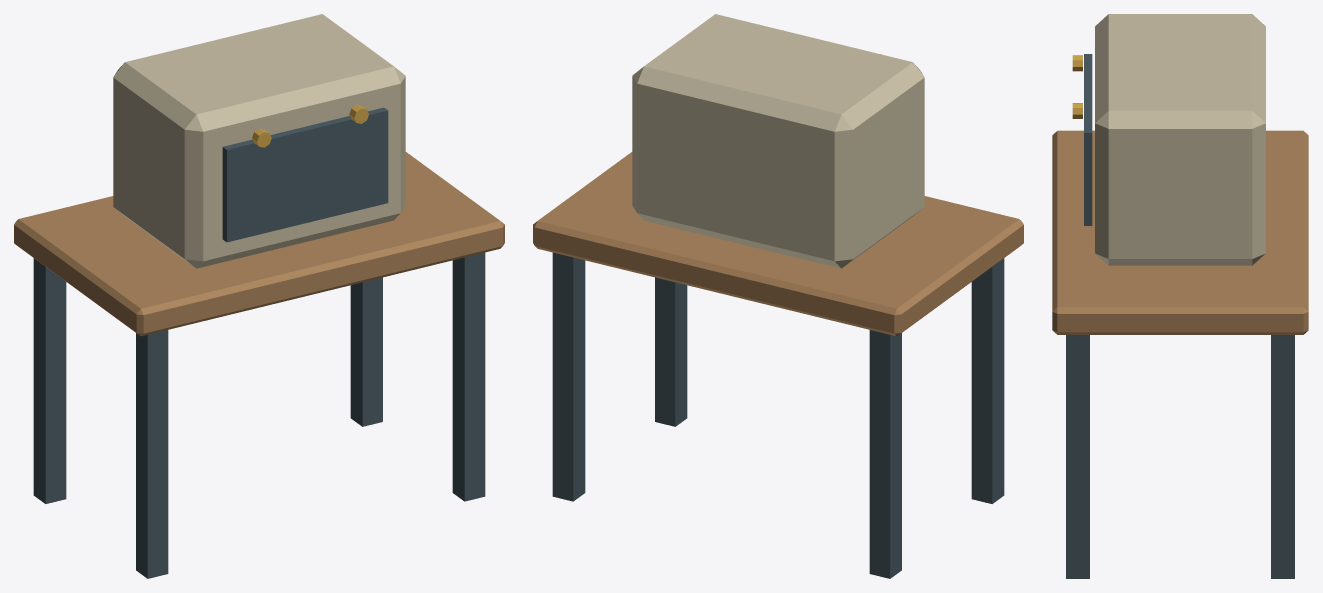
File: microwave_counter.glb
3 renders of one model, left to right at view 1: azimuth 30°, elevation 25°; view 2: azimuth 150°, elevation 25°; view 3: azimuth 270°, elevation 25°, orthographic.
Parts seen in each view (by area): view 1: microwave_counter; view 2: microwave_counter; view 3: microwave_counter.
Boxes of the visible parts, <box> form: microwave_counter: <box>14,14,504,578</box>; microwave_counter: <box>533,14,1023,578</box>; microwave_counter: <box>1052,14,1308,578</box>.
Bounding box in the file's own units: 1.25 × 1.4 × 0.75.
